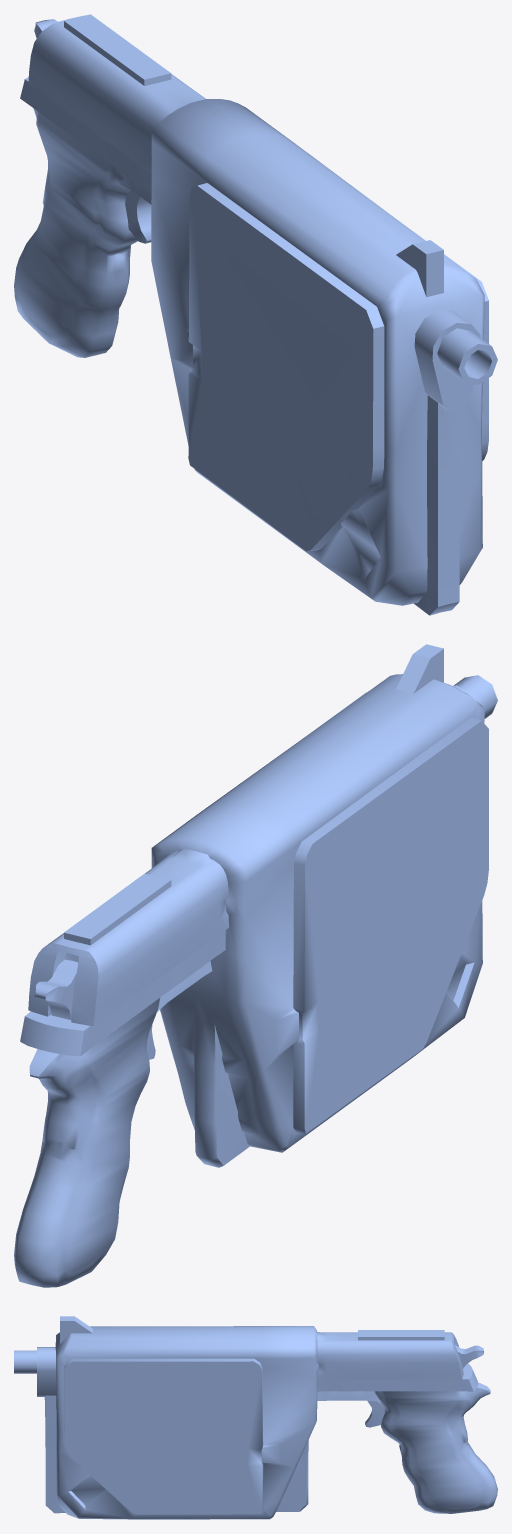
Rendered from Handgun_rig_01.fbx.
3 views of the same model, one above another, from view 1: azimuth 30°, elevation 25°; view 2: azimuth 150°, elevation 25°; view 3: azimuth 270°, elevation 25° (orthographic). The views are drawn at different scales.
Visible parts, largest first — view 1: handgun; view 2: handgun; view 3: handgun.
Boxes of the visible parts, box(x1,y1,x2,y2) form: handgun: box(14, 14, 497, 615); handgun: box(14, 644, 497, 1287); handgun: box(14, 1316, 497, 1519).
Size of the model in its own units: 5.49 by 16.14 by 36.82.
